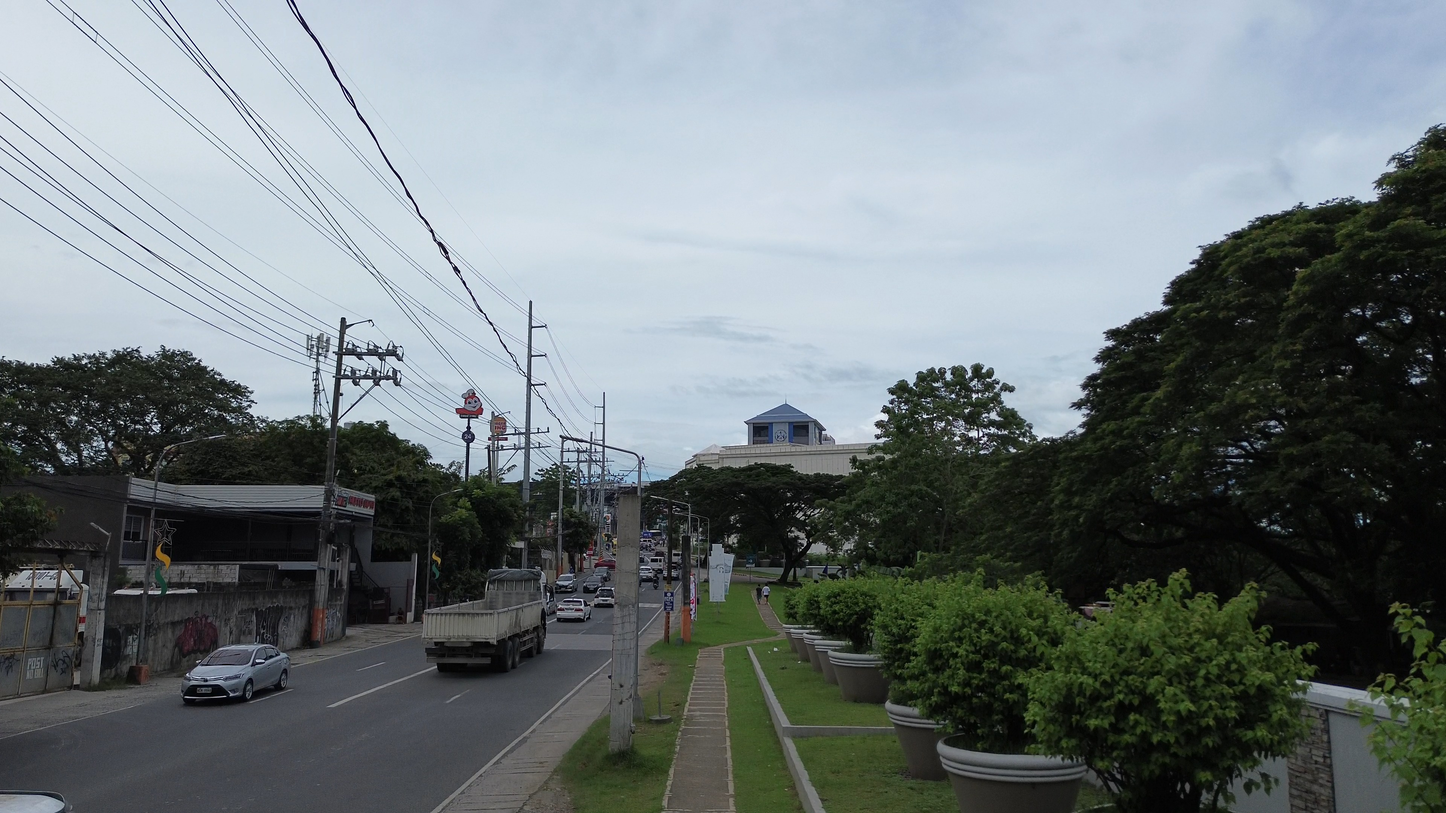car: (183, 644, 289, 703), (593, 567, 612, 582)
truck: (422, 570, 546, 671)
vehicle: (556, 598, 591, 621), (555, 573, 578, 593), (592, 587, 615, 607), (582, 576, 602, 593), (593, 567, 612, 582), (638, 565, 654, 580), (596, 559, 617, 570)
